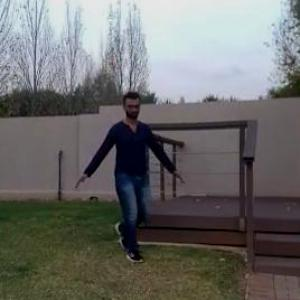land: (72, 87, 184, 280)
